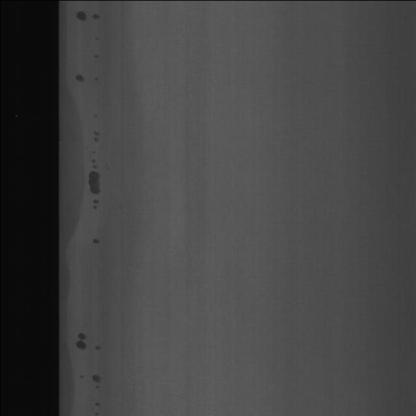oil_spot: (86, 119, 102, 246), (89, 336, 103, 408), (90, 7, 101, 92), (74, 316, 90, 358), (71, 72, 85, 90), (74, 10, 87, 24)
